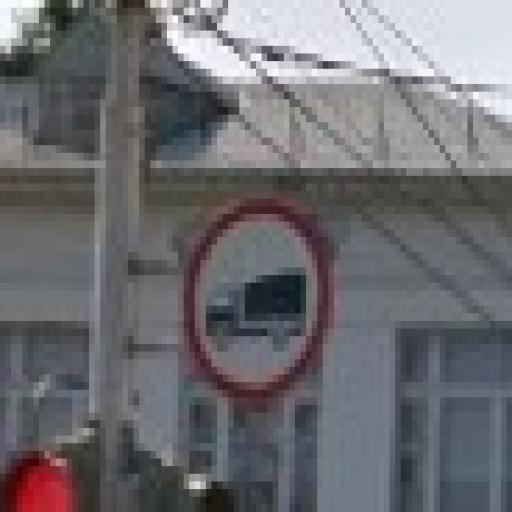traffic_sign: (185, 200, 335, 406)
